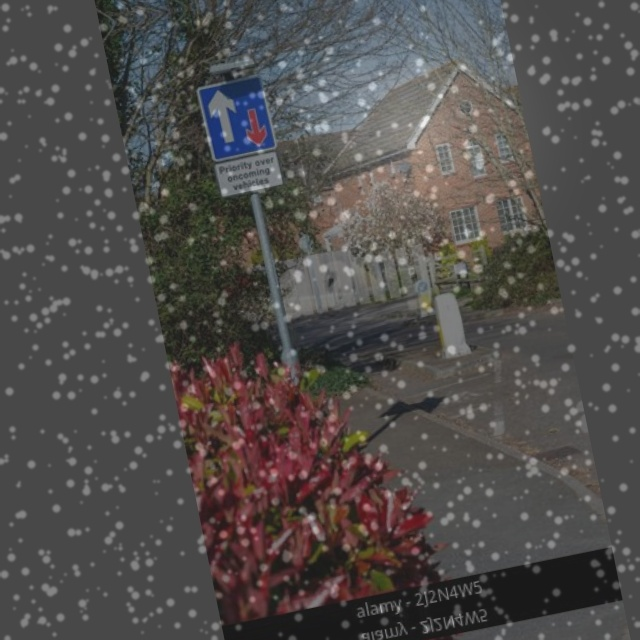Priority_for_Oncoming_Traffic: (197, 74, 277, 161)
